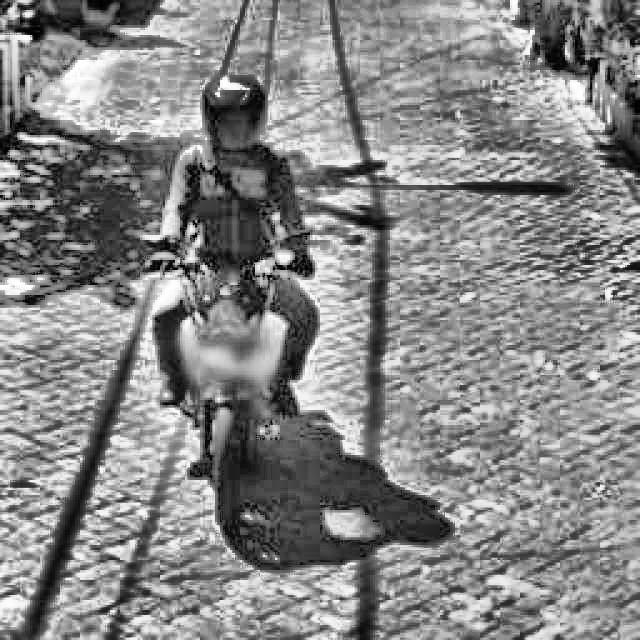motorcycle: (123, 210, 354, 536)
